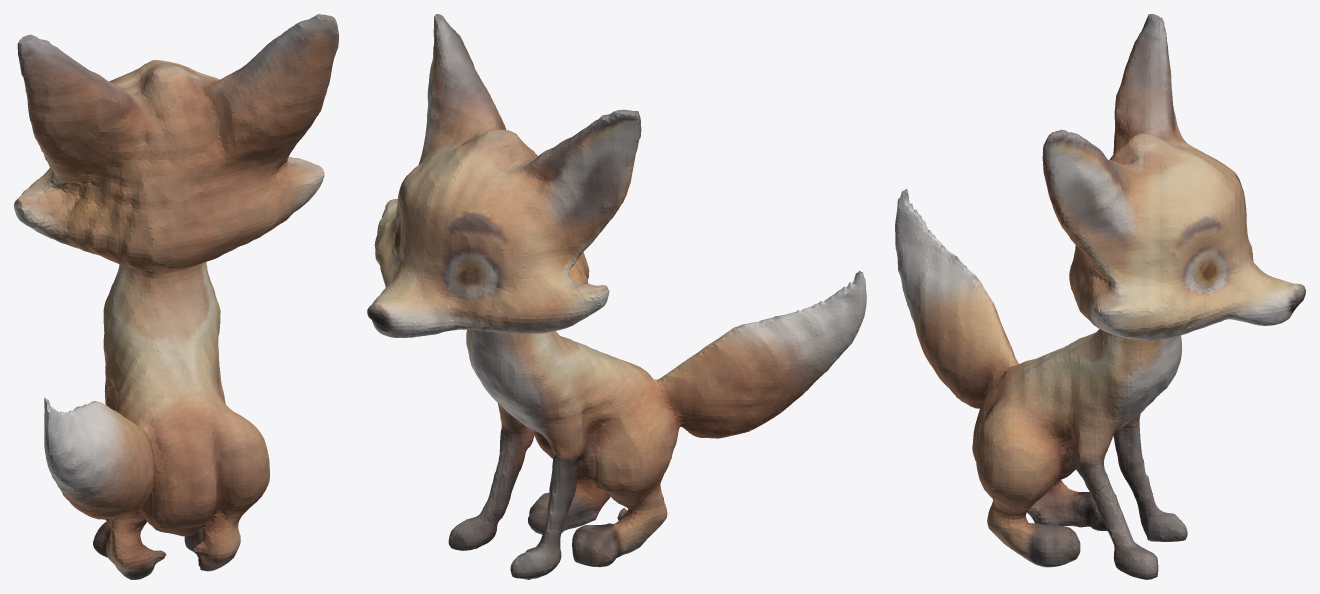
The picture shows the model from 3 angles, left to right: view 1: azimuth 30°, elevation 25°; view 2: azimuth 150°, elevation 25°; view 3: azimuth 270°, elevation 25°; orthographic projection. The views are drawn at different scales.
Visible parts, largest first — view 1: world; view 2: world; view 3: world.
Part boxes in pixels (x1,y1,x2,y2): world: (14, 14, 338, 579); world: (367, 14, 866, 579); world: (895, 14, 1305, 579).
Bounding box in the file's own units: 1.53 × 1.92 × 1.48.
